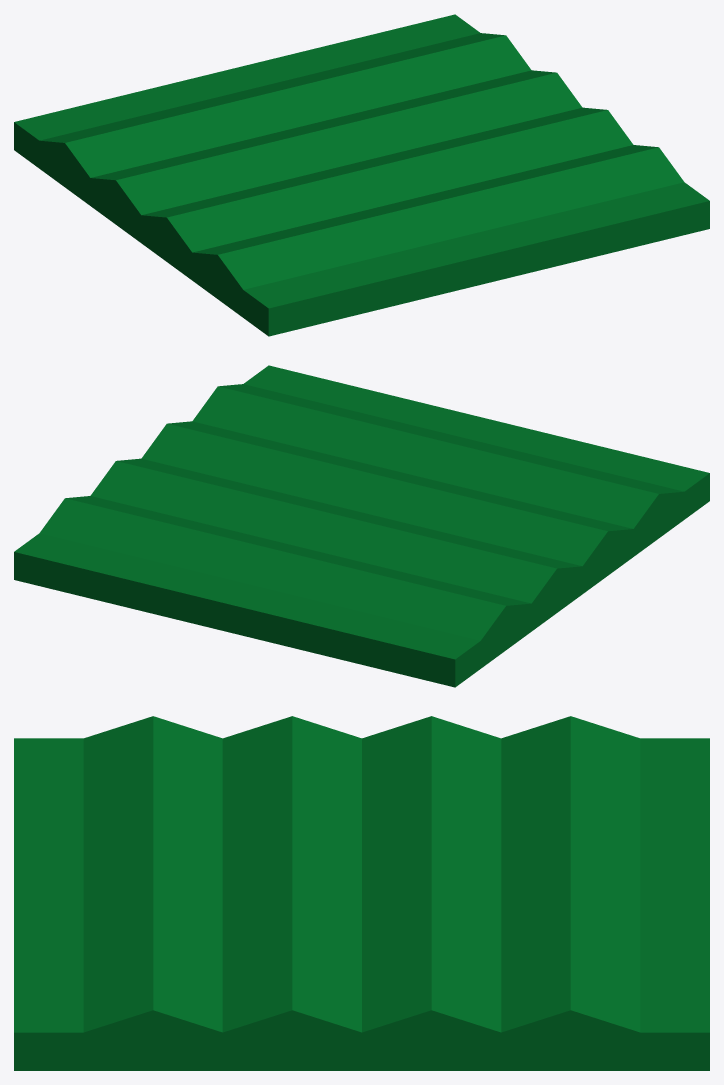
The model's file is Floor_teeth.gltf.
The picture shows the model from 3 angles, top to bottom: view 1: azimuth 30°, elevation 25°; view 2: azimuth 150°, elevation 25°; view 3: azimuth 270°, elevation 25°; orthographic projection. The views are drawn at different scales.
Parts seen in each view (by area): view 1: Floor_teeth_glb; view 2: Floor_teeth_glb; view 3: Floor_teeth_glb.
Part boxes in pixels (left/top/right/bottom): Floor_teeth_glb: left=14, top=14, right=709, bottom=336; Floor_teeth_glb: left=14, top=365, right=709, bottom=687; Floor_teeth_glb: left=14, top=716, right=709, bottom=1070.
Bounding box in the file's own units: 4 × 0.3849 × 4.
1 material, 1 textured.
